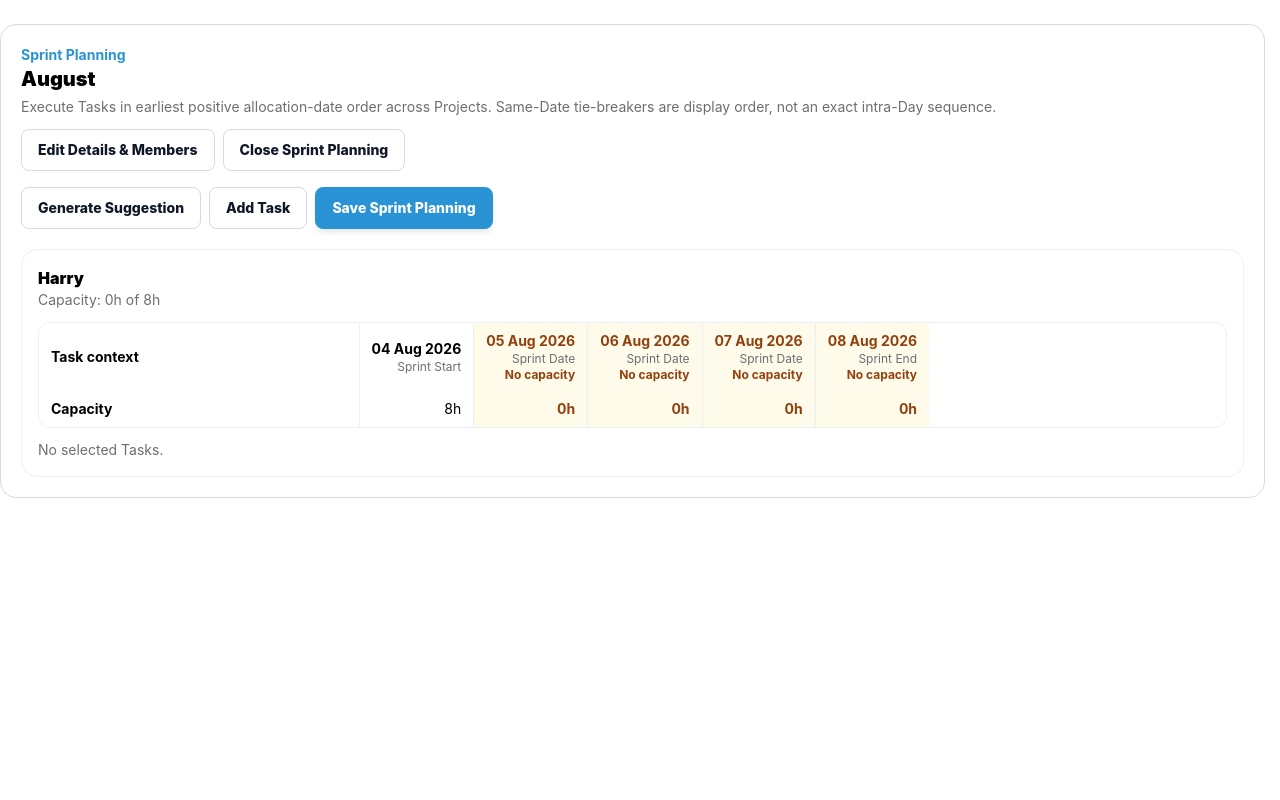
SprintTaskReview › shows Add Task results inline and adds the Task allocation row without aggregate summaries_SPD09_AC40To43And74
The image size is (1280, 800).
Expected: the text "No selected Tasks." is shown, [38, 441, 164, 458]
Expected: the element "Harry" shows "Capacity: 0h of 8h", [21, 249, 1244, 477]
Click the button "Add Task" at (258, 208), box [209, 187, 307, 229]
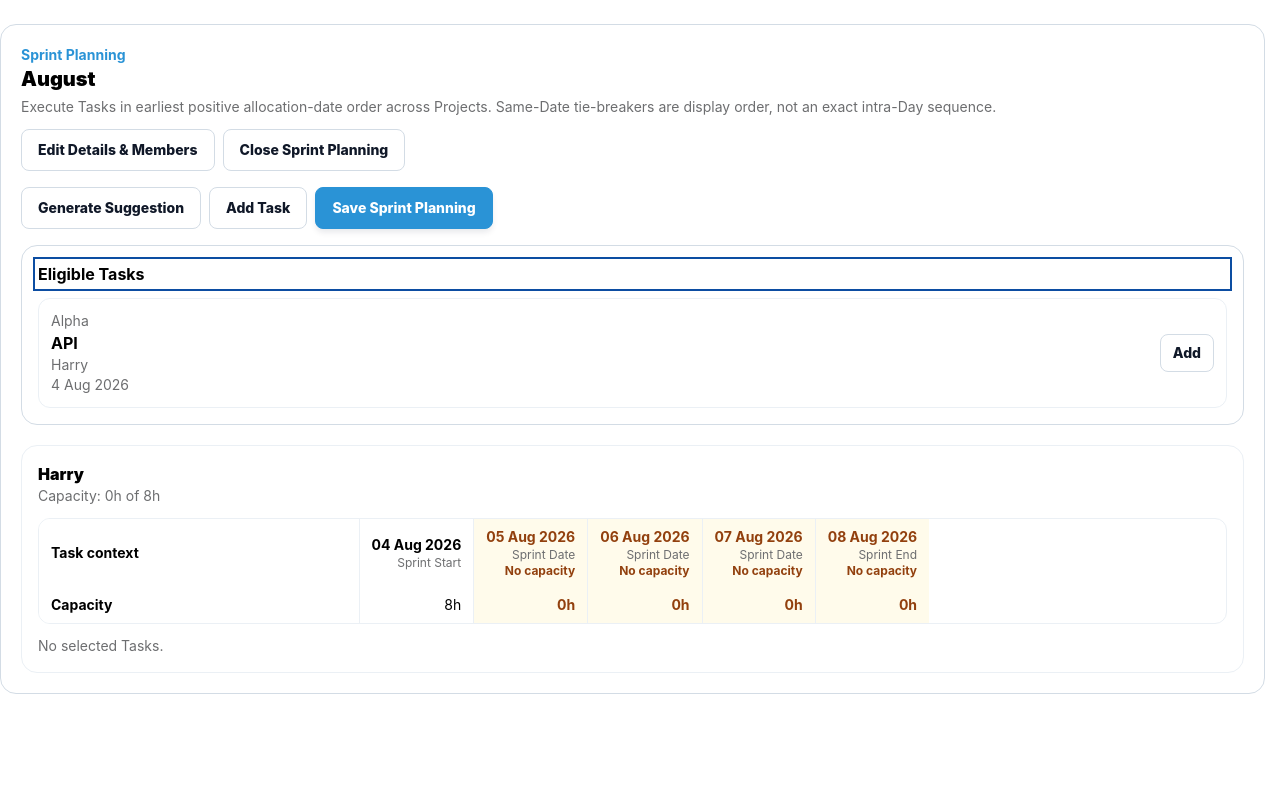
Expected: the element "Eligible Tasks" shows "Alpha", [51, 312, 89, 329]
Expected: the element "Eligible Tasks" shows "API", [51, 333, 78, 353]
Expected: the element "Eligible Tasks" shows "4 Aug 2026", [51, 376, 129, 393]
Click the button with aria-label "Add API from Alpha to Sprint" at (1187, 353), box [1160, 334, 1214, 372]
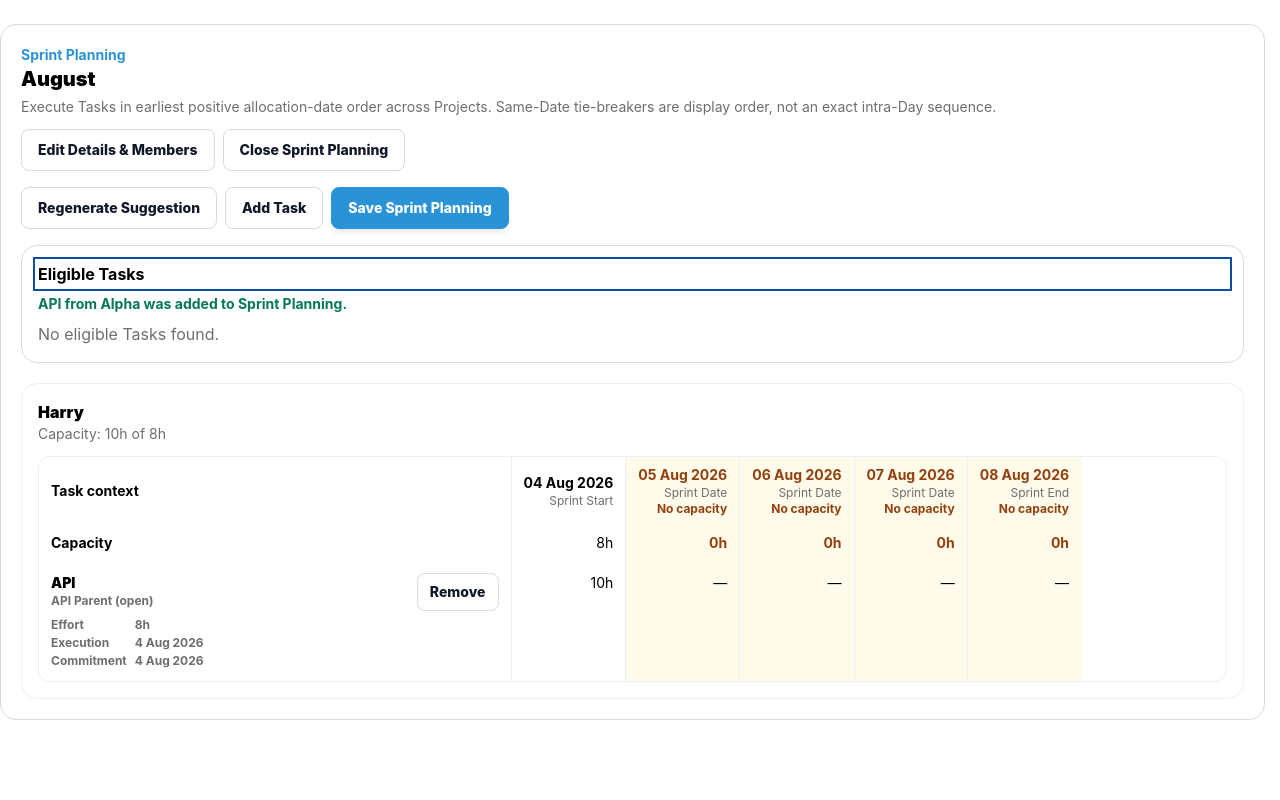
Expected: the button with aria-label "Remove API from Sprint" is shown, [417, 573, 498, 611]
Expected: the message shows "API from Alpha was added", [38, 295, 347, 312]
Expected: the element "Harry" shows "Capacity: 10h of 8h", [21, 383, 1244, 699]
